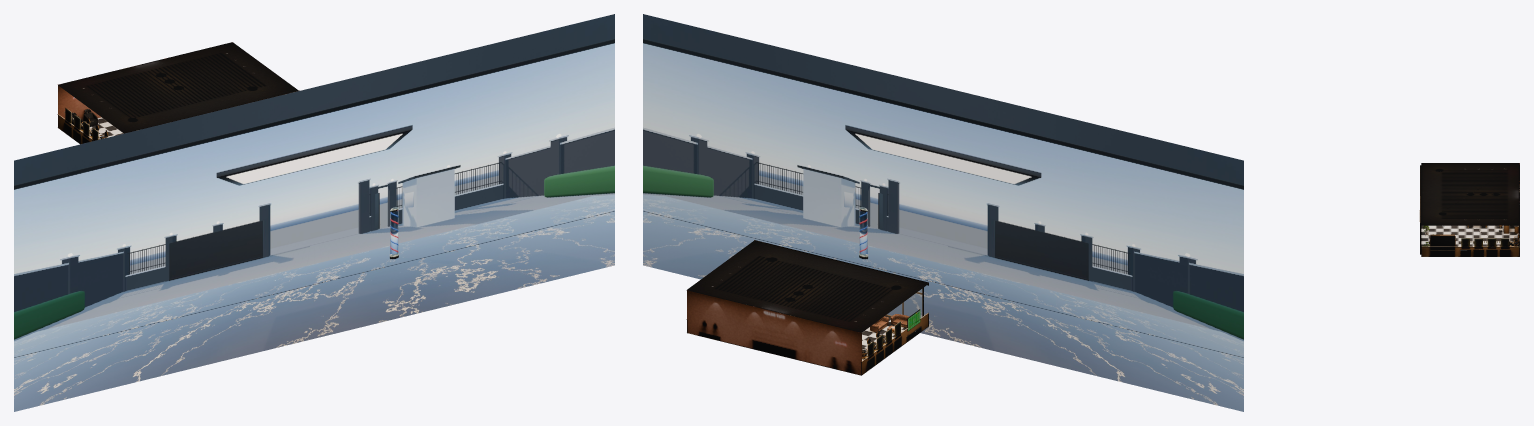
Rendered from int_kings_court.glb.
3 views of the same model, side by side, from view 1: azimuth 30°, elevation 25°; view 2: azimuth 150°, elevation 25°; view 3: azimuth 270°, elevation 25° (orthographic). The views are drawn at different scales.
Parts seen in each view (by area): view 1: VIEW_front, ROOM; view 2: VIEW_front, ROOM; view 3: ROOM.
Boxes of the visible parts, x1,y1,x2,y2 form: VIEW_front: (14, 14, 614, 411); ROOM: (57, 42, 299, 144); VIEW_front: (643, 14, 1243, 411); ROOM: (686, 240, 928, 375); ROOM: (1419, 163, 1519, 256).
Size of the model in its own units: 61.71 by 24.68 by 30.16.
3 materials, 2 textured.
